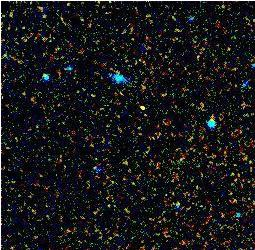star: (128, 90, 158, 120)
